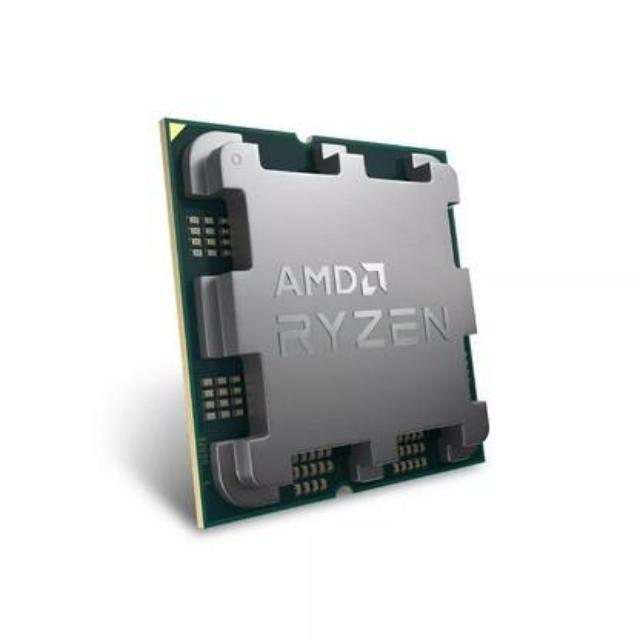CPU: (166, 113, 511, 519)
